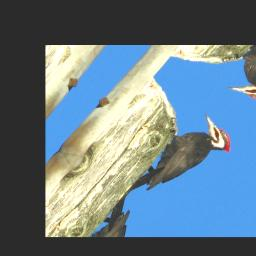Woodpecker: (118, 103, 245, 221)
